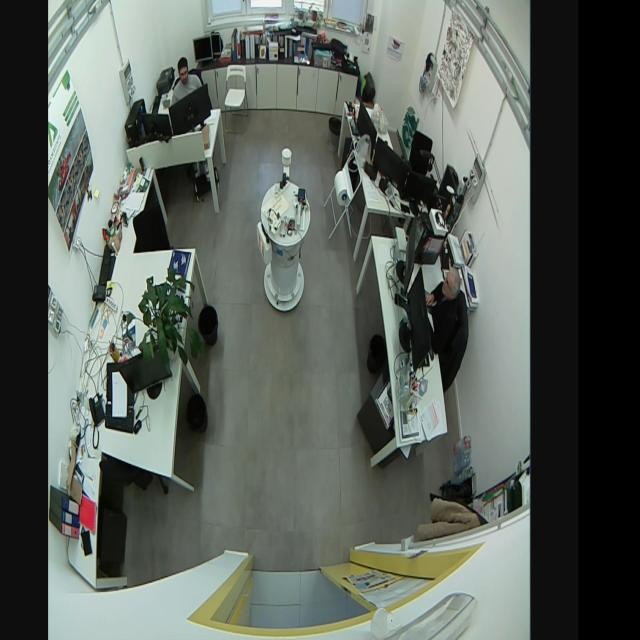Persona: (424, 264, 465, 361), (169, 52, 204, 108)
